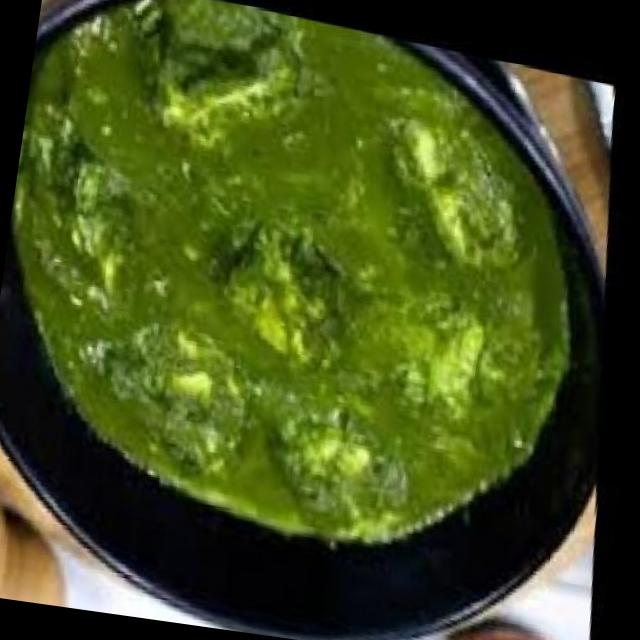palak_paneer: (0, 0, 635, 582)
